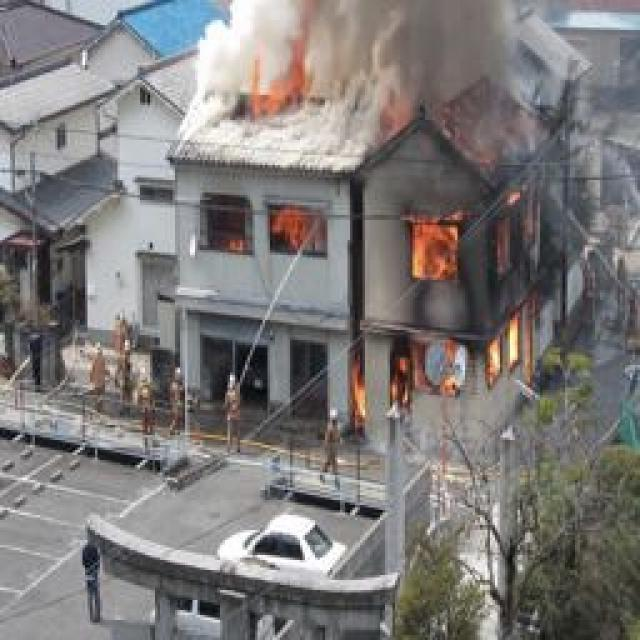Fire: (341, 161, 543, 433), (232, 17, 318, 116), (204, 205, 327, 264)
